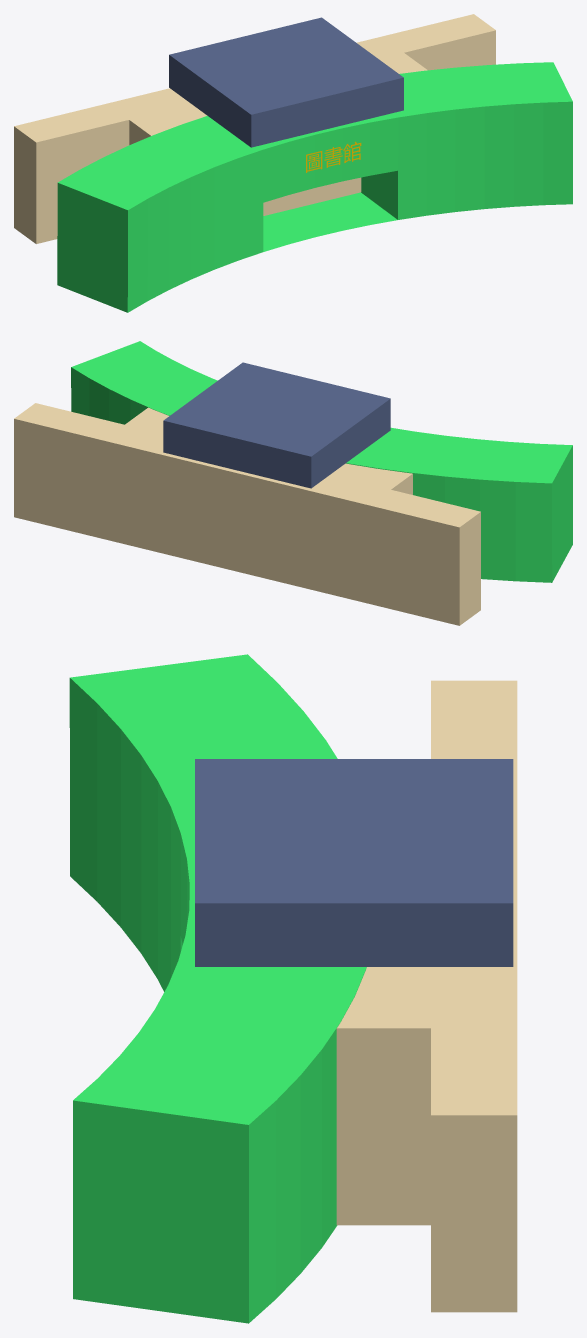
File: 图书馆3.glb
3 views of the same model, one above another, from view 1: azimuth 30°, elevation 25°; view 2: azimuth 150°, elevation 25°; view 3: azimuth 270°, elevation 25° (orthographic). The views are drawn at different scales.
Parts seen in each view (by area): view 1: Cube, 平面, 立方体.001, 立方体, 文本; view 2: 立方体.001, Cube, 平面, 立方体; view 3: Cube, 平面, 立方体.001, 立方体.
Part boxes in pixels (bbox=[...]): Cube: bbox=[57, 62, 572, 312]; 平面: bbox=[169, 17, 403, 147]; 立方体.001: bbox=[14, 14, 495, 243]; 立方体: bbox=[129, 52, 427, 215]; 文本: bbox=[306, 141, 361, 172]; 立方体.001: bbox=[14, 403, 480, 625]; Cube: bbox=[71, 341, 572, 582]; 平面: bbox=[163, 362, 390, 488]; 立方体: bbox=[125, 407, 412, 494]; Cube: bbox=[69, 654, 366, 1323]; 平面: bbox=[195, 759, 513, 966]; 立方体.001: bbox=[431, 680, 517, 1312]; 立方体: bbox=[336, 967, 433, 1225].
Bounding box in the file's own units: 20.64 × 5.45 × 8.32.
